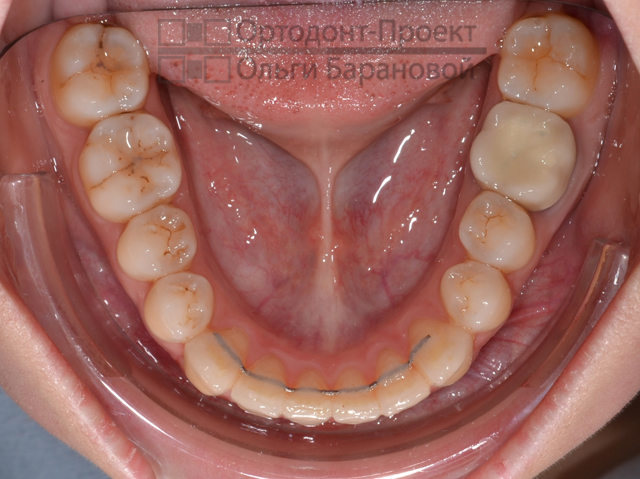LL1BC_decay: (442, 263, 510, 330)
LL1M_healthy: (470, 104, 576, 205)
LL2BC_decay: (459, 193, 534, 267)
LL2M_decay: (499, 18, 596, 106)
LLCI_decay: (331, 372, 380, 423)
LLC_decay: (410, 321, 472, 387)
LLLI_decay: (377, 354, 429, 414)
LR1BC_decay: (147, 271, 213, 343)
LR1M_decay: (79, 114, 179, 220)
LR2BC_decay: (119, 206, 198, 279)
LR2M_decay: (50, 24, 147, 119)
LRCI_decay: (286, 374, 329, 424)
LRC_decay: (185, 330, 249, 395)
LRLI_decay: (234, 357, 285, 417)
